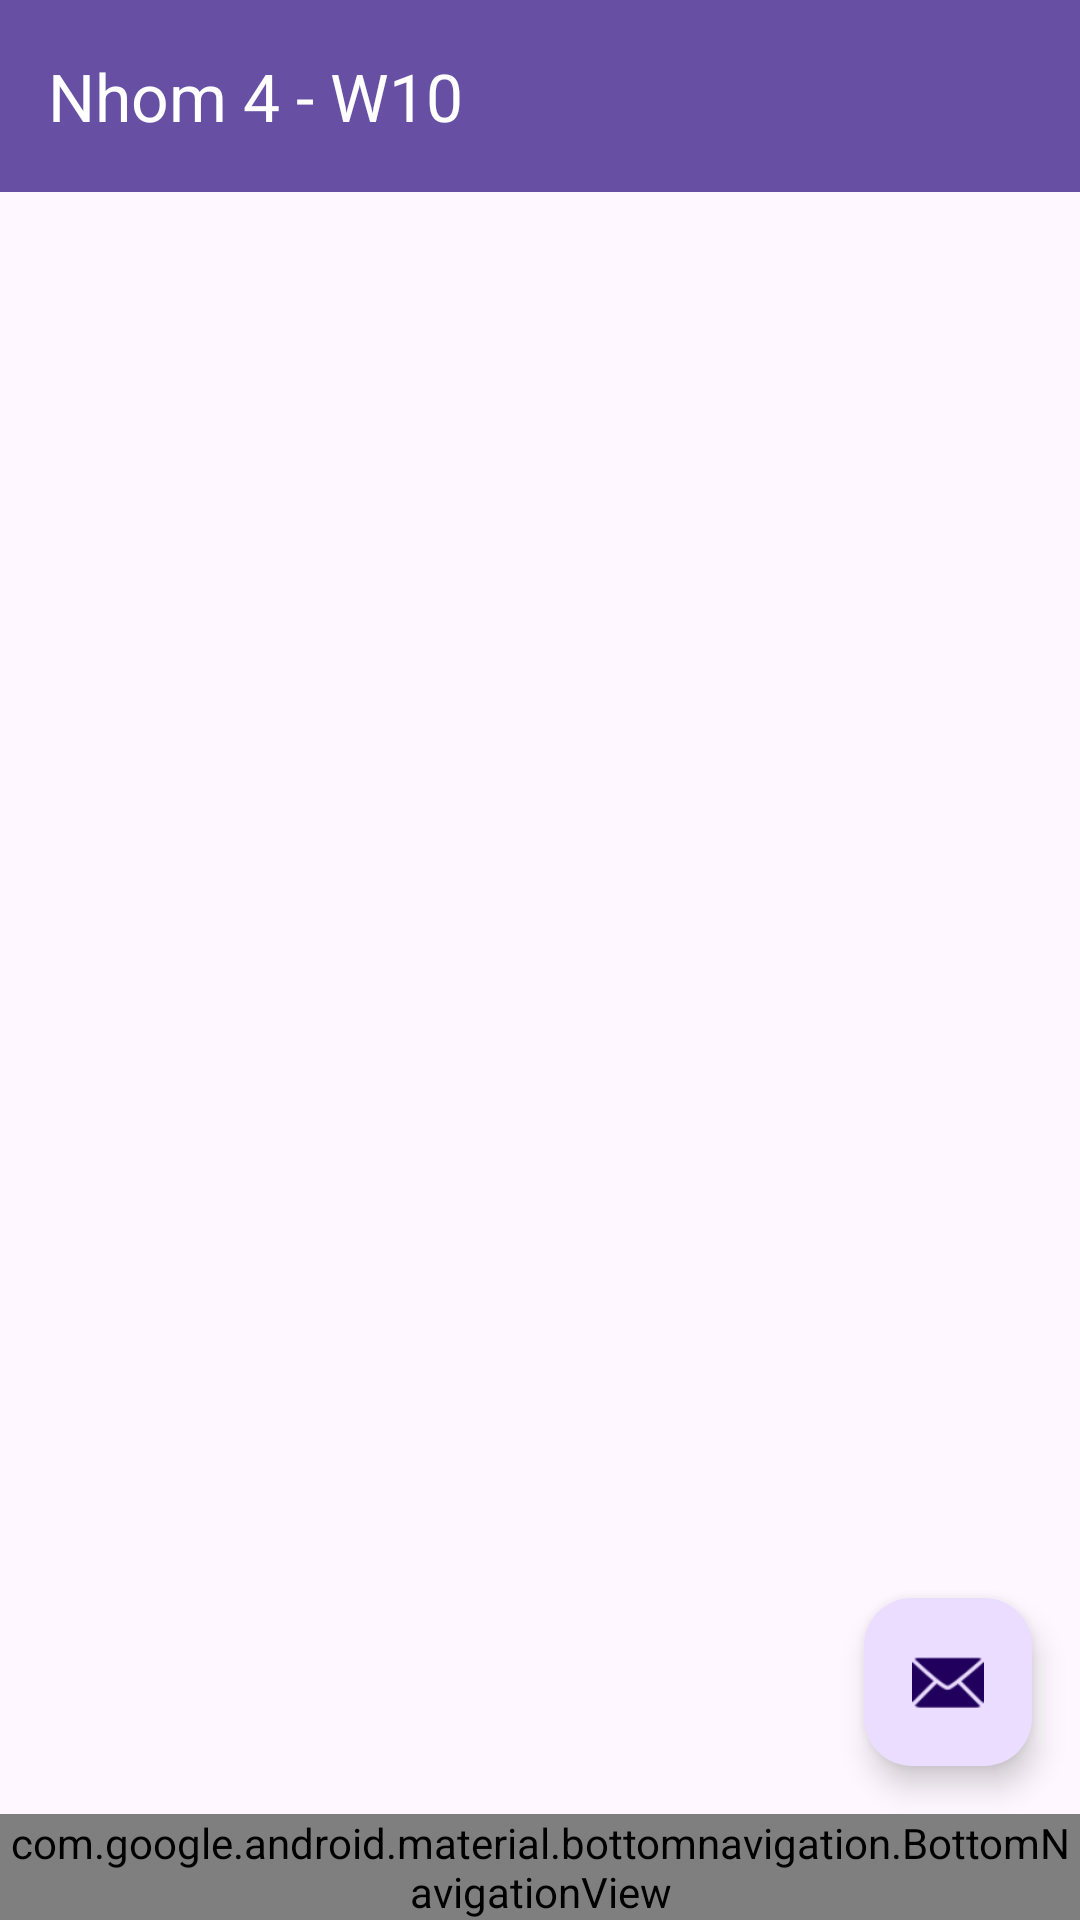

Where icons sit on this 1080w x 1920h app screen, as (x1, y1, x2, y2):
email: (864, 1598, 1032, 1766)
